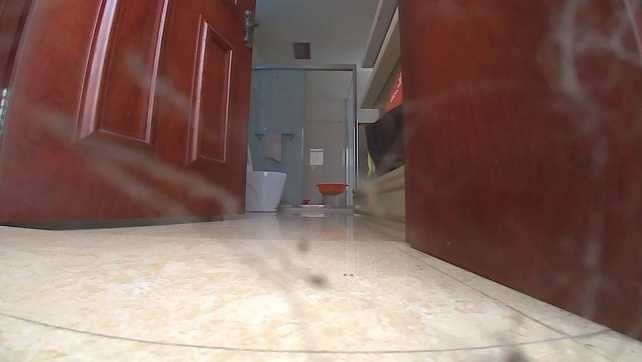door_anno: (0, 0, 260, 224)
toilet: (246, 150, 288, 212)
